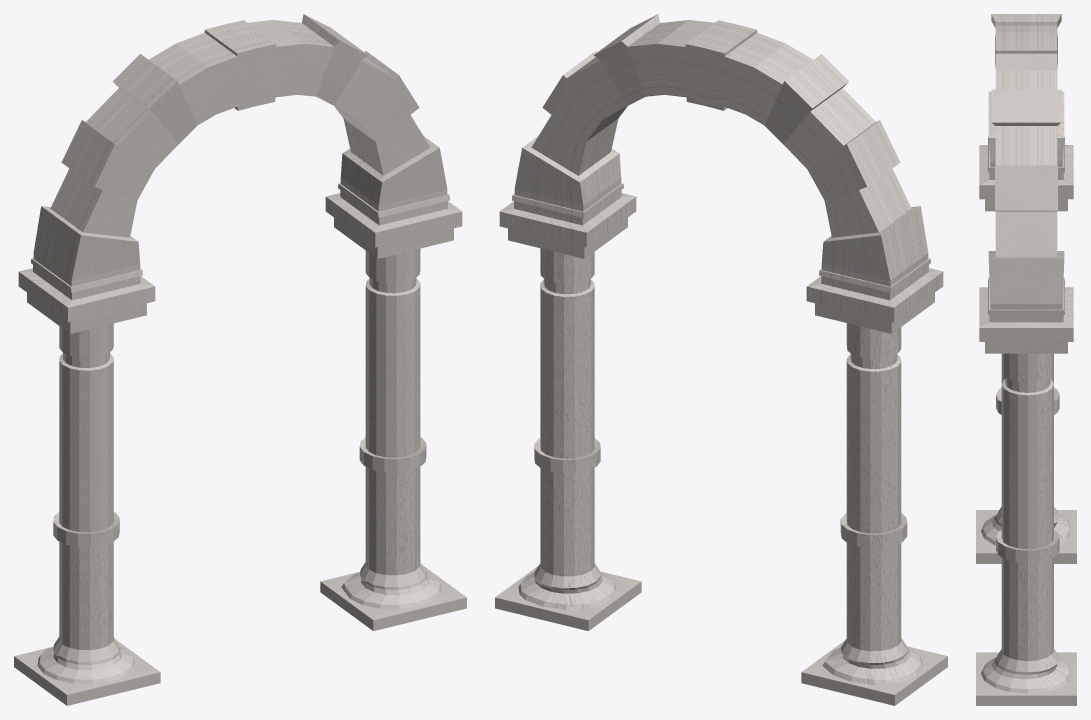
Rendered from stone_archway_chun-kit.fbx.
3 renders of one model, left to right at view 1: azimuth 30°, elevation 25°; view 2: azimuth 150°, elevation 25°; view 3: azimuth 270°, elevation 25°, orthographic. The views are drawn at different scales.
Visible parts, largest first — view 1: Stone Archway; view 2: Stone Archway; view 3: Stone Archway.
Part boxes in pixels (box(x1,y1,x2,y2)): Stone Archway: box(14, 14, 466, 705); Stone Archway: box(495, 14, 947, 705); Stone Archway: box(976, 14, 1076, 705).
Size of the model in its own units: 721 by 1037 by 166.
